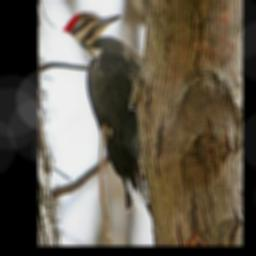Woodpecker: (62, 9, 153, 218)
